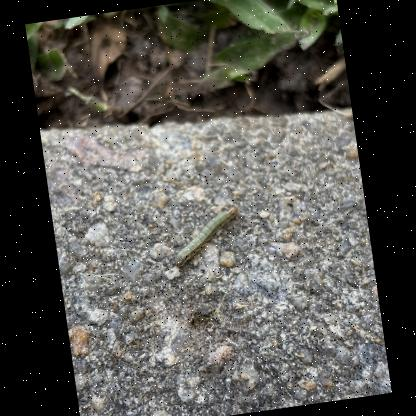Fall Armyworm Larvae: (166, 204, 244, 270)
